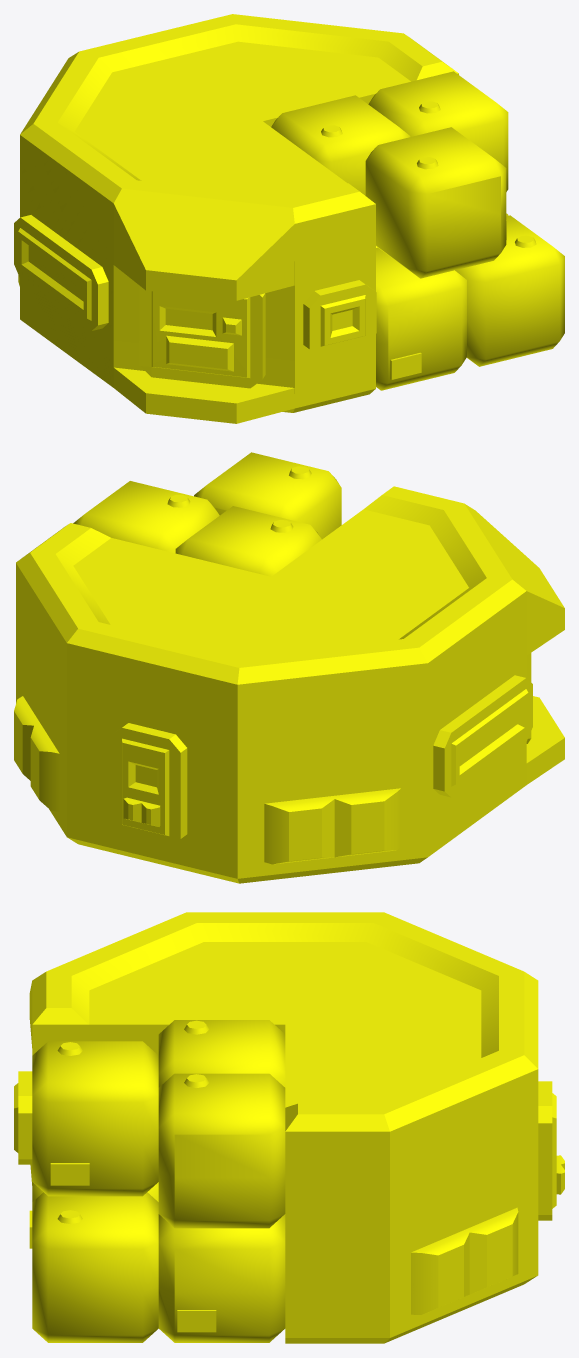
The model's file is kaykit-cargodepot-b.glb.
3 renders of one model, top to bottom at view 1: azimuth 30°, elevation 25°; view 2: azimuth 150°, elevation 25°; view 3: azimuth 270°, elevation 25°, orthographic. The views are drawn at different scales.
Visible parts, largest first — view 1: cargodepot_B; view 2: cargodepot_B; view 3: cargodepot_B.
Part boxes in pixels (x1,y1,x2,y2): cargodepot_B: (14,14,564,423); cargodepot_B: (14,452,564,883); cargodepot_B: (14,912,564,1343).
Size of the model in its own units: 2.08 by 1.02 by 2.18.
